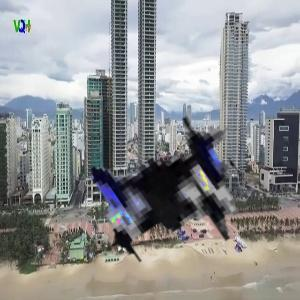drone: (18, 39, 263, 284)
